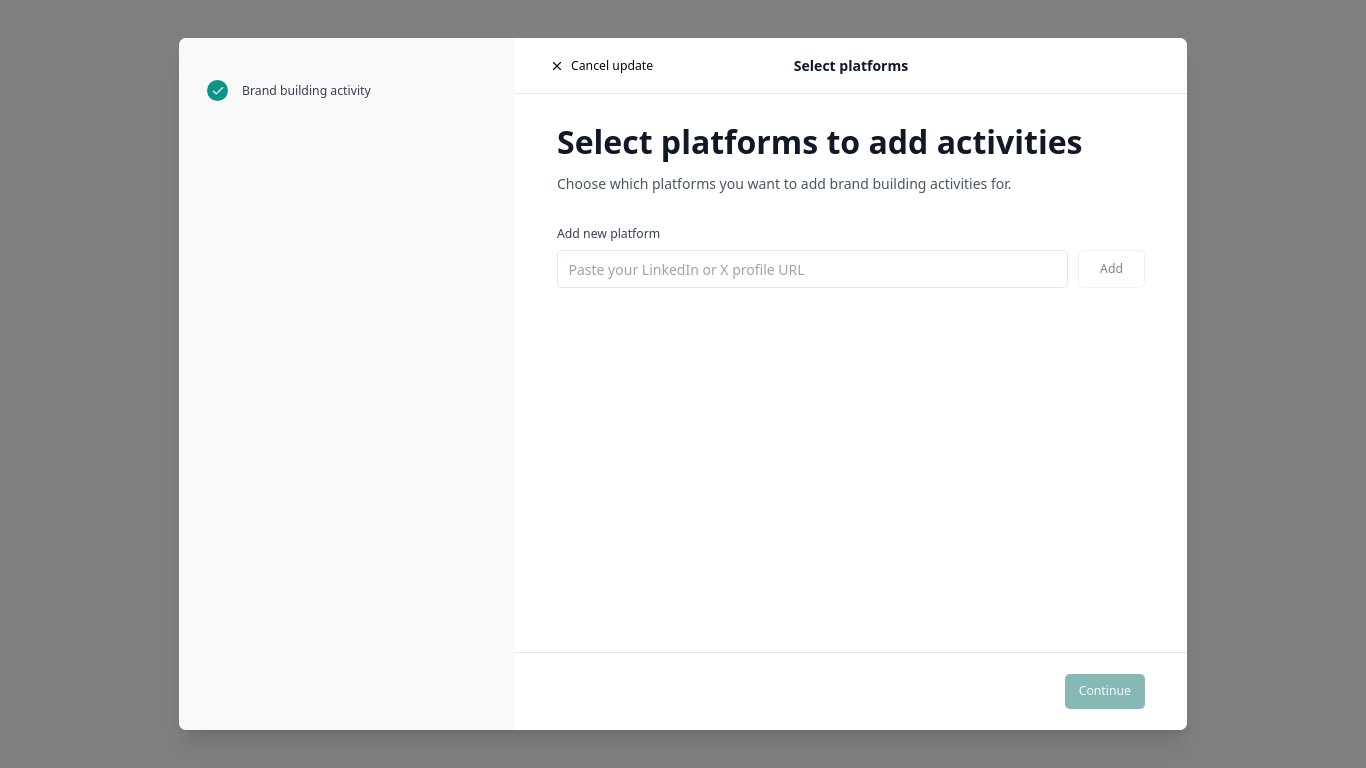
Test: BrandBuildingStep › Platform Selection Screen › should add platform when Add button clicked
Step 1. Type "https://linkedin.com/in/johndoe" into the field with placeholder "Paste your LinkedIn or X profile URL" → [812, 269], box [557,250,1068,288]
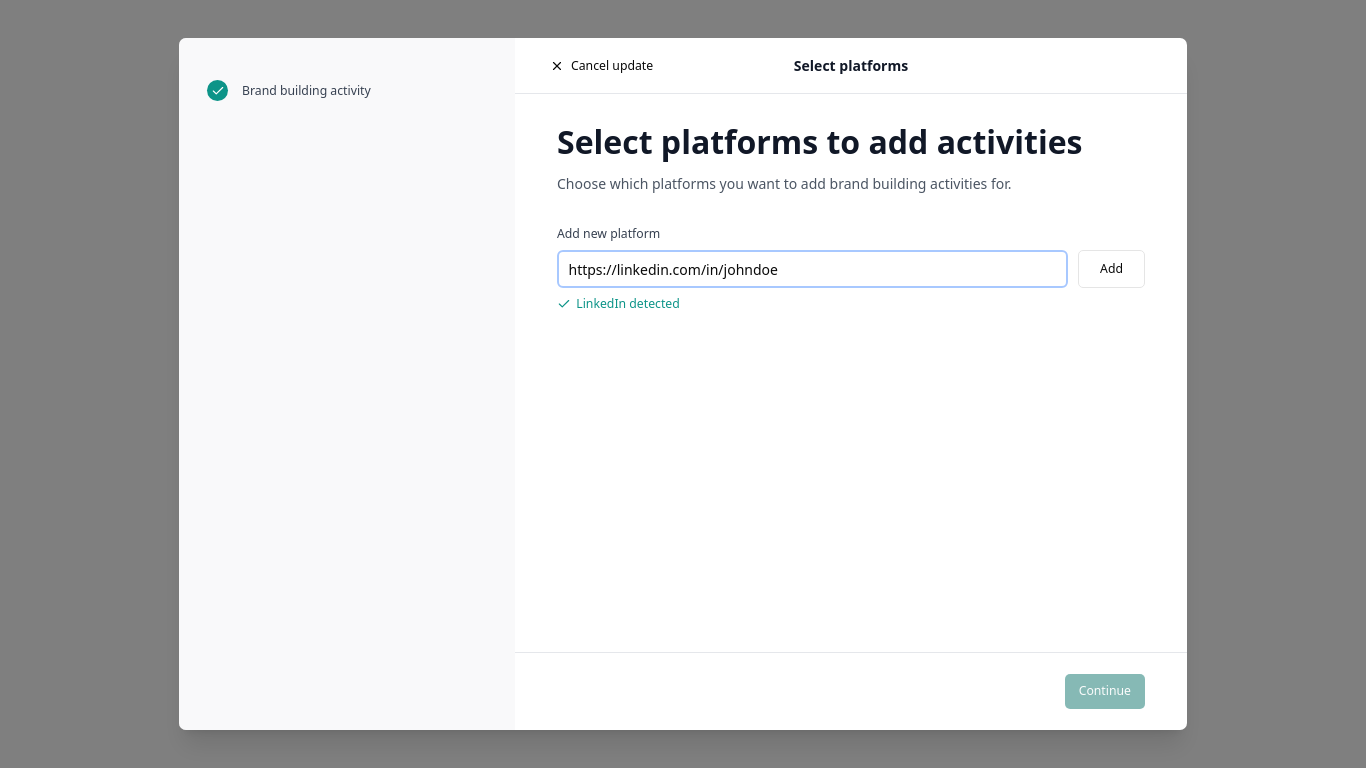
Step 2. Click the button "Add" → [1112, 269], box [1078,250,1145,288]
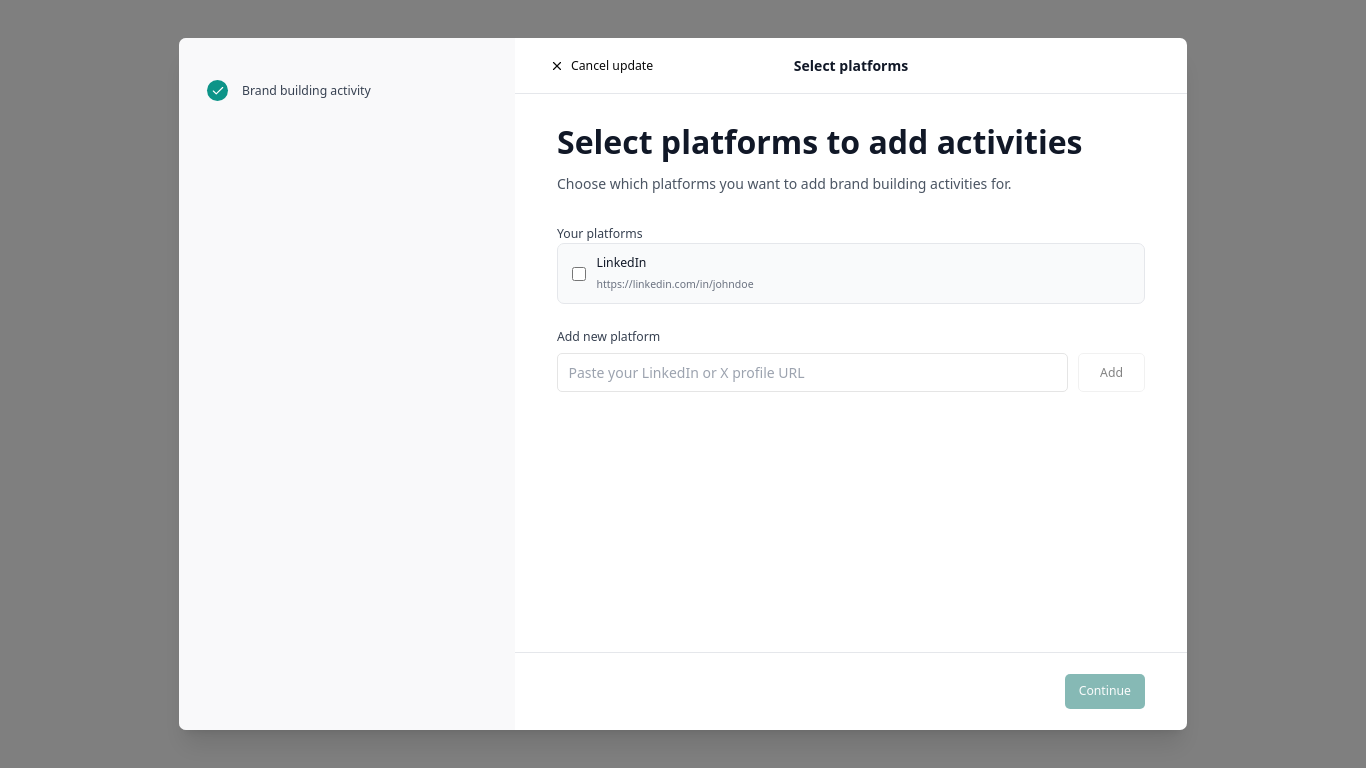
Now the text "Your platforms" is shown, box [557,225,642,242]
Now the text "LinkedIn" is shown, box [596,254,646,271]
